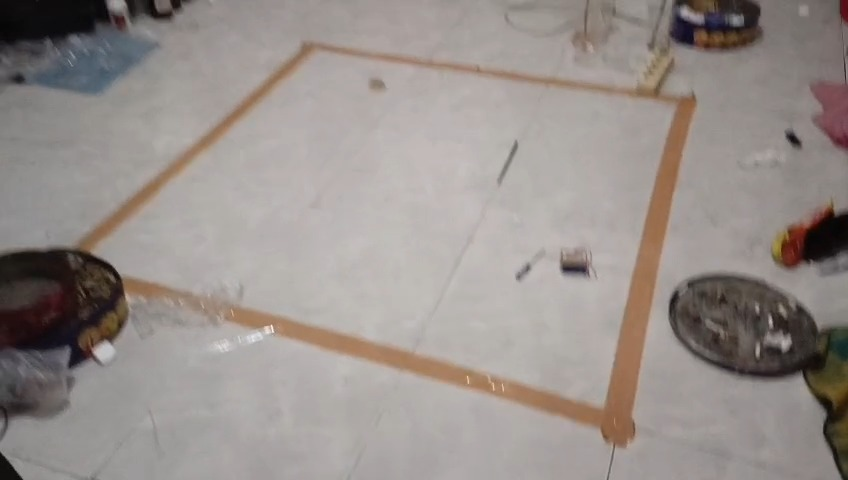floor marking: (79, 43, 695, 447), (124, 277, 198, 304)
